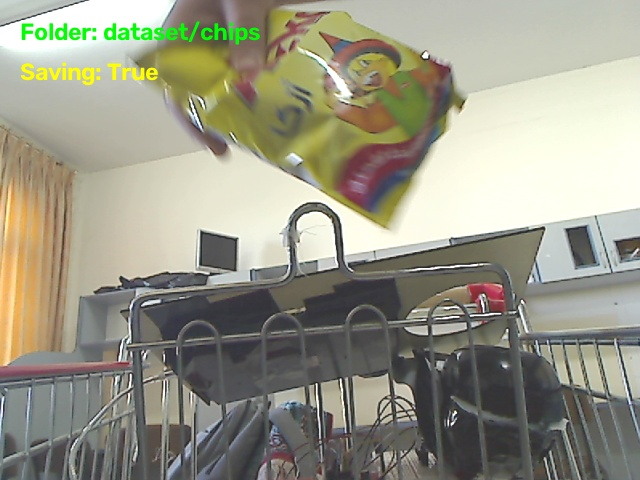chips: (136, 10, 461, 226)
